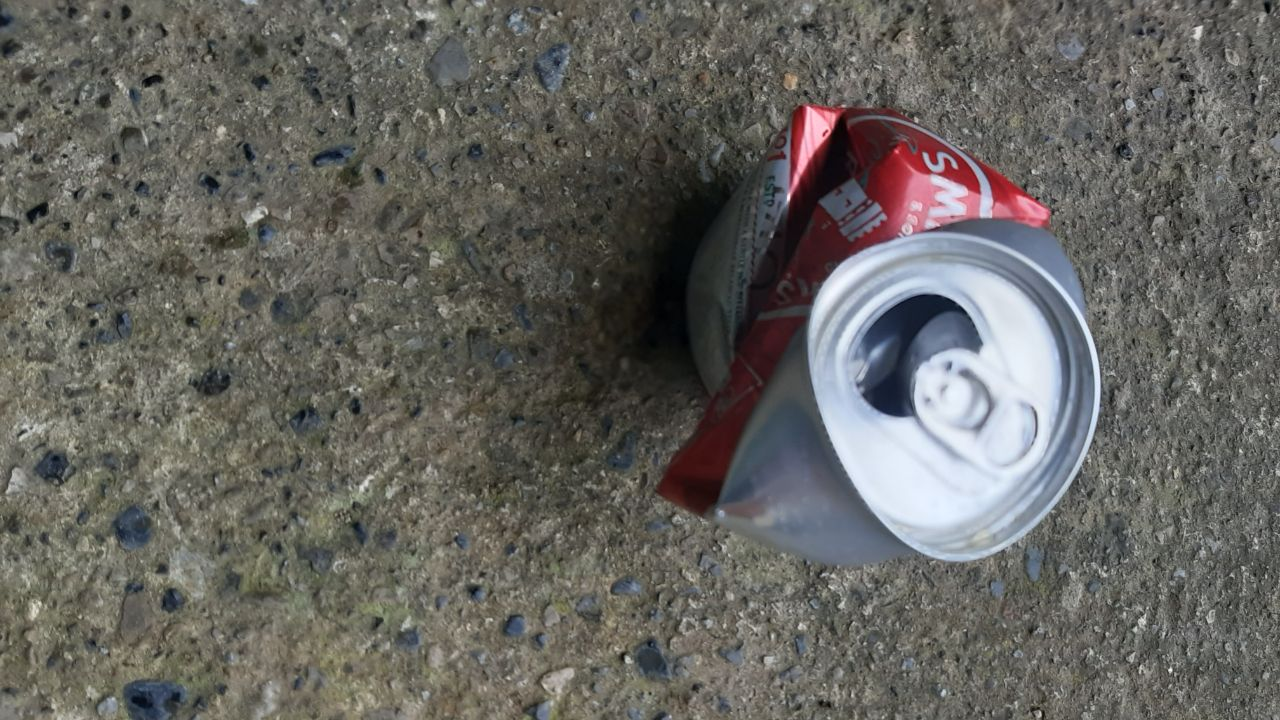Can: (657, 105, 1101, 561)
